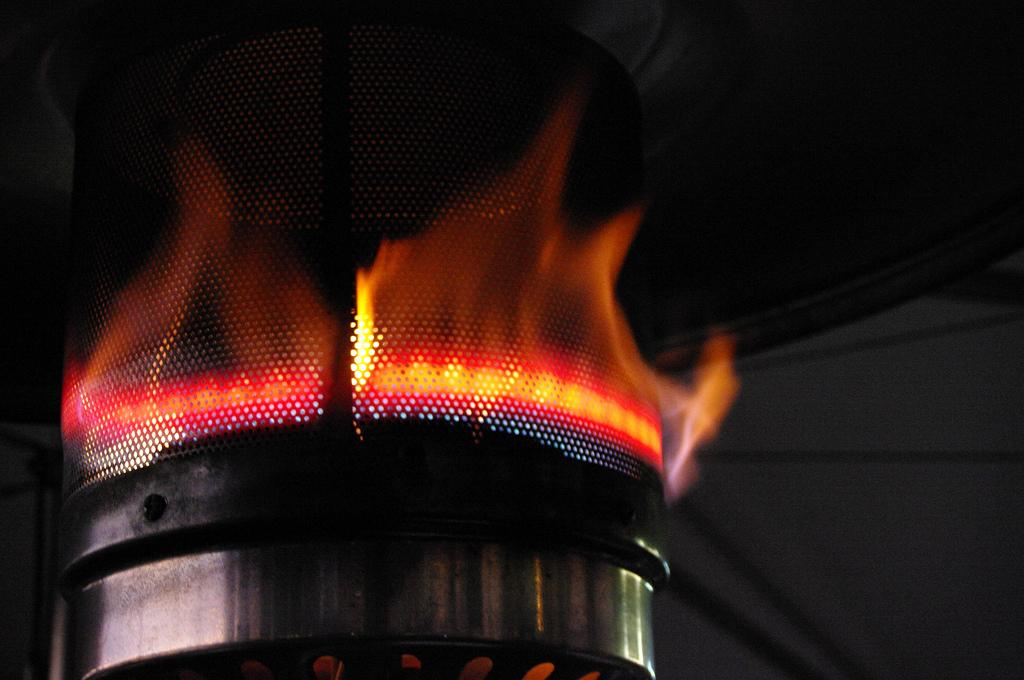fire: (375, 263, 628, 437), (98, 310, 327, 417)
